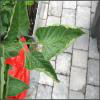Tomato leaf: (35, 25, 85, 61), (23, 49, 61, 87), (4, 1, 30, 42)
